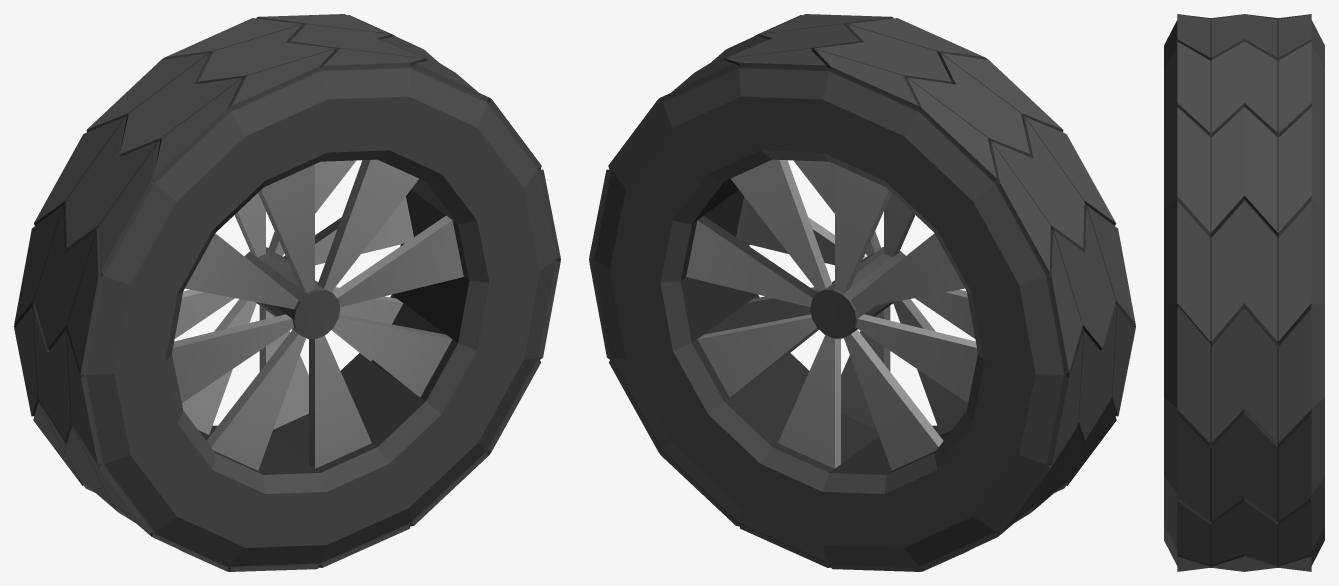
Rendered from SM_Int_Wheel.fbx.
3 views of the same model, side by side, from view 1: azimuth 30°, elevation 25°; view 2: azimuth 150°, elevation 25°; view 3: azimuth 270°, elevation 25° (orthographic).
Parts seen in each view (by area): view 1: SM_Int_Wheel; view 2: SM_Int_Wheel; view 3: SM_Int_Wheel.
Boxes of the visible parts, bbox=[...] form: SM_Int_Wheel: bbox=[14, 14, 560, 571]; SM_Int_Wheel: bbox=[589, 14, 1135, 571]; SM_Int_Wheel: bbox=[1164, 14, 1324, 571].
Size of the model in its own units: 1 by 1 by 0.2881.
1 material, 1 textured.
